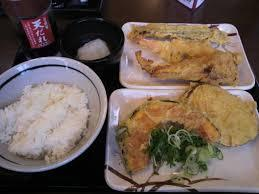pumpkin: (125, 100, 212, 165)
satumaimo: (182, 83, 259, 147)
